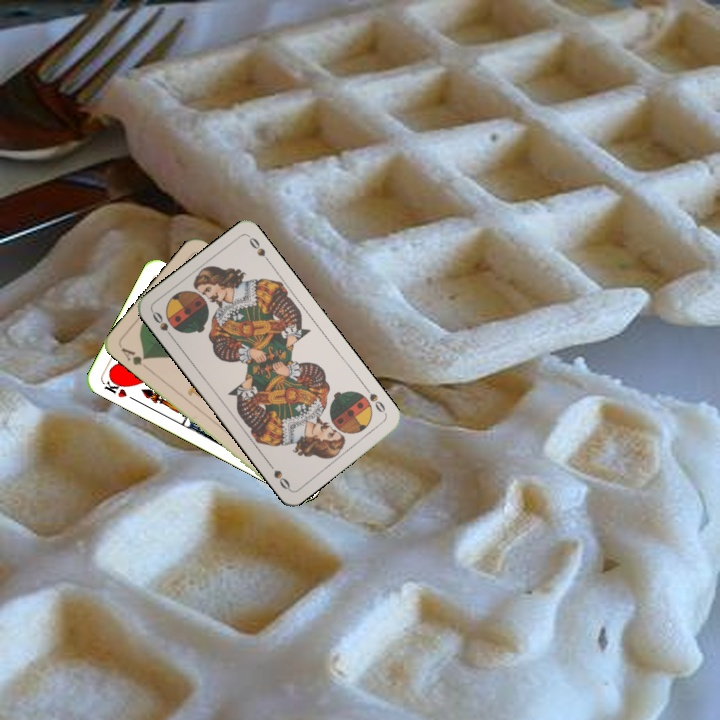GA: (117, 343, 151, 372)
HK: (99, 374, 129, 400)
SO: (357, 382, 389, 417), (148, 307, 177, 342)
